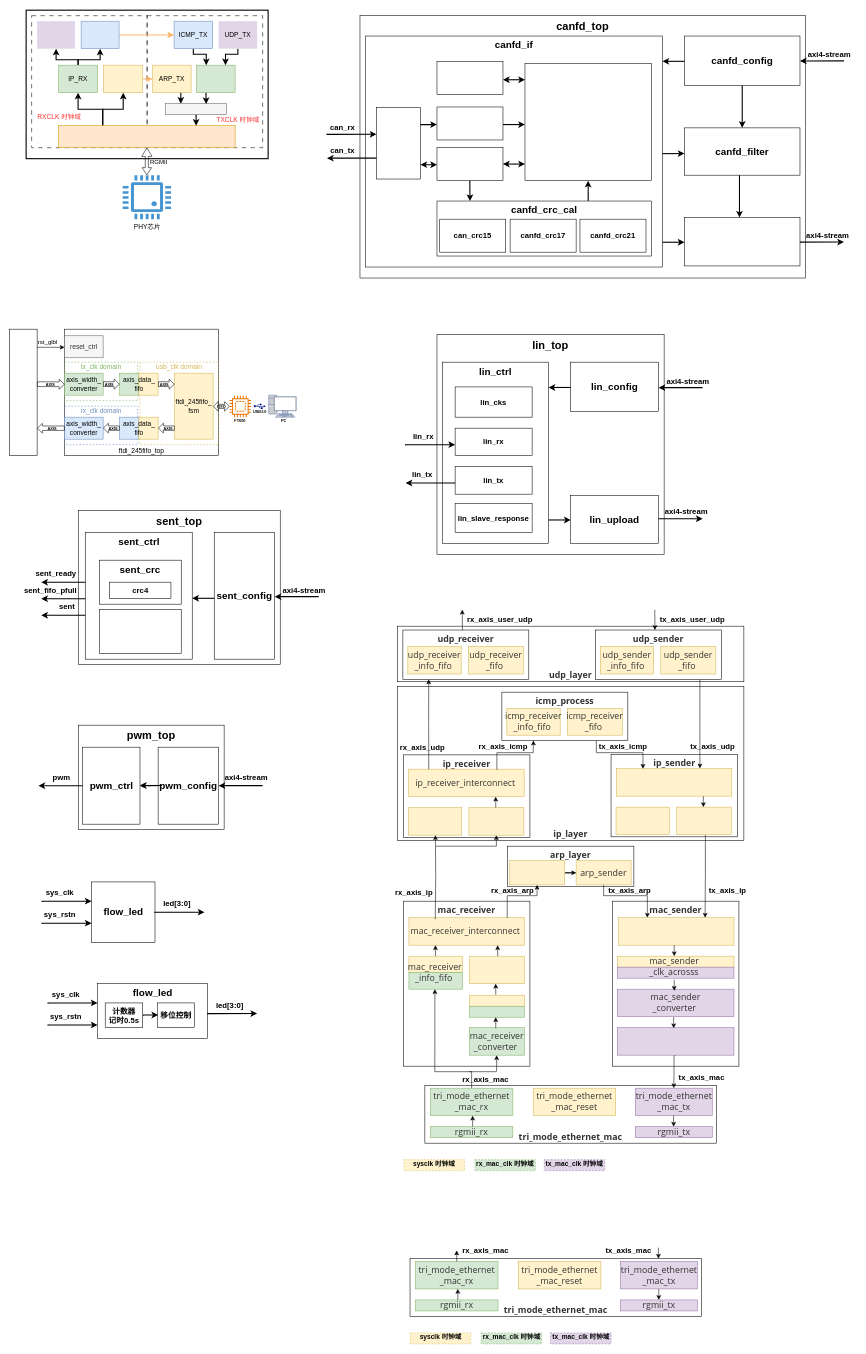
This 866x1354 diagram has some shape labels left out. Here are the shapes that lost their labels. From the top down, the centre of each, then its label:
At [56,34]: "UDP_RX".
At [100,35]: "ICMP_RX".
At [123,79]: "ARP_RX".
At [215,79]: "IP_TX".
At [469,77]: "node_state_mng".
At [196,109]: "axis_interconnect".
At [469,123]: "bit_error_det".
At [587,122]: "protocal_mng".
At [146,136]: "Tri_Mode_Eth_MAC".
At [398,143]: "bit_timing".
At [469,164]: "stuff_mng".
At [742,241]: "canfd_upload".
At [23,392]: "user's logic".
At [140,631]: "sent_data_fifo".
At [674,782]: "ip_sender_interconnect".
At [435,821]: "ip_receiver _info _fifo".
At [496,821]: "ip_ receiver _fifo".
At [642,821]: "ip_sender _info _fifo".
At [704,821]: "ip_ sender _fifo".
At [537,872]: "arp_receiver".
At [676,931]: "mac_sender_interconnect".
At [496,970]: "mac_ receiver _fifo".
At [496,1000]: "mac_ receiver _clk_acrosss".
At [675,1041]: "mac_ sender _fifo".
